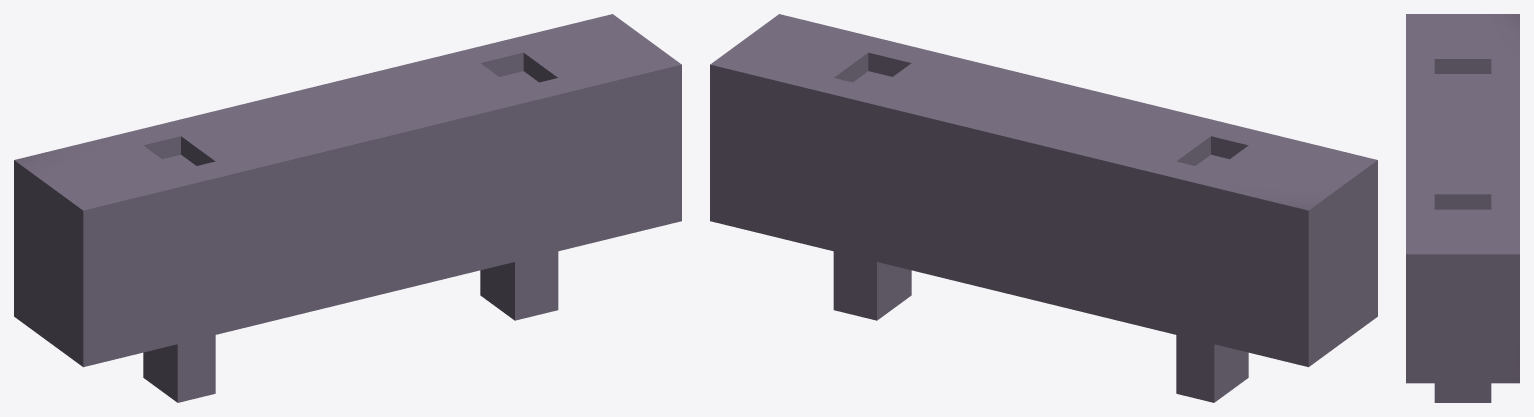
The model's file is GuardRail.obj.
3 views of the same model, side by side, from view 1: azimuth 30°, elevation 25°; view 2: azimuth 150°, elevation 25°; view 3: azimuth 270°, elevation 25° (orthographic). The views are drawn at different scales.
Parts seen in each view (by area): view 1: 立方体; view 2: 立方体; view 3: 立方体.
Boxes of the visible parts, x1=… form: 立方体: x1=14, y1=14, x2=681, y2=402; 立方体: x1=710, y1=14, x2=1377, y2=402; 立方体: x1=1406, y1=14, x2=1519, y2=402.
Bounding box in the file's own units: 2 × 0.7416 × 0.4.
1 material, 1 textured.
